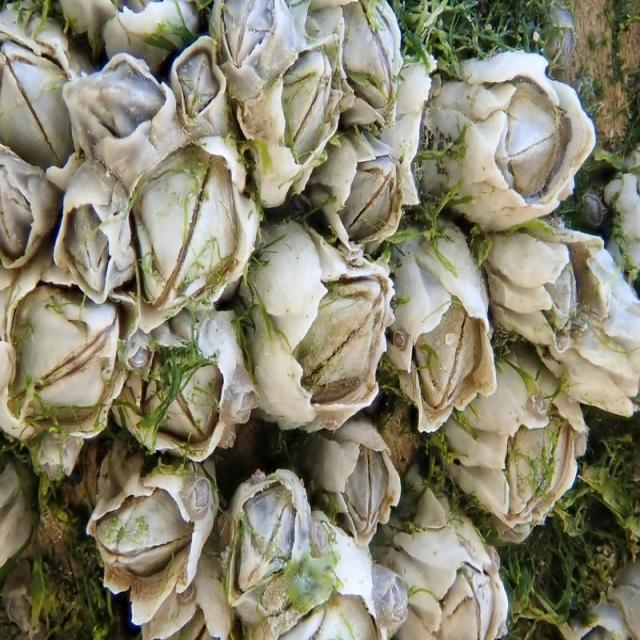barnacles: (436, 53, 598, 236), (262, 222, 389, 452), (0, 274, 126, 481), (459, 376, 592, 548), (128, 150, 256, 328), (393, 237, 500, 439), (79, 463, 217, 619), (110, 317, 254, 457), (250, 34, 336, 214), (214, 464, 312, 618), (497, 232, 612, 360), (401, 508, 511, 637), (309, 129, 413, 261), (307, 427, 405, 555), (67, 53, 172, 172), (51, 174, 138, 308), (213, 0, 292, 100), (172, 38, 228, 138)
